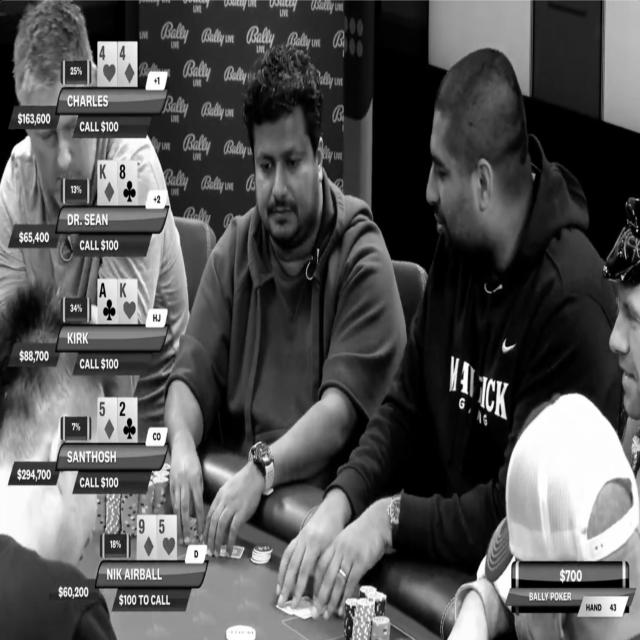2C: (117, 397, 138, 442)
4D: (118, 40, 137, 88)
4H: (98, 42, 117, 86)
5D: (97, 398, 117, 443)
5H: (157, 516, 177, 559)
8C: (117, 161, 139, 206)
9D: (137, 515, 157, 560)
AC: (98, 280, 118, 326)
KD: (97, 159, 118, 207)
KH: (117, 278, 138, 325)
